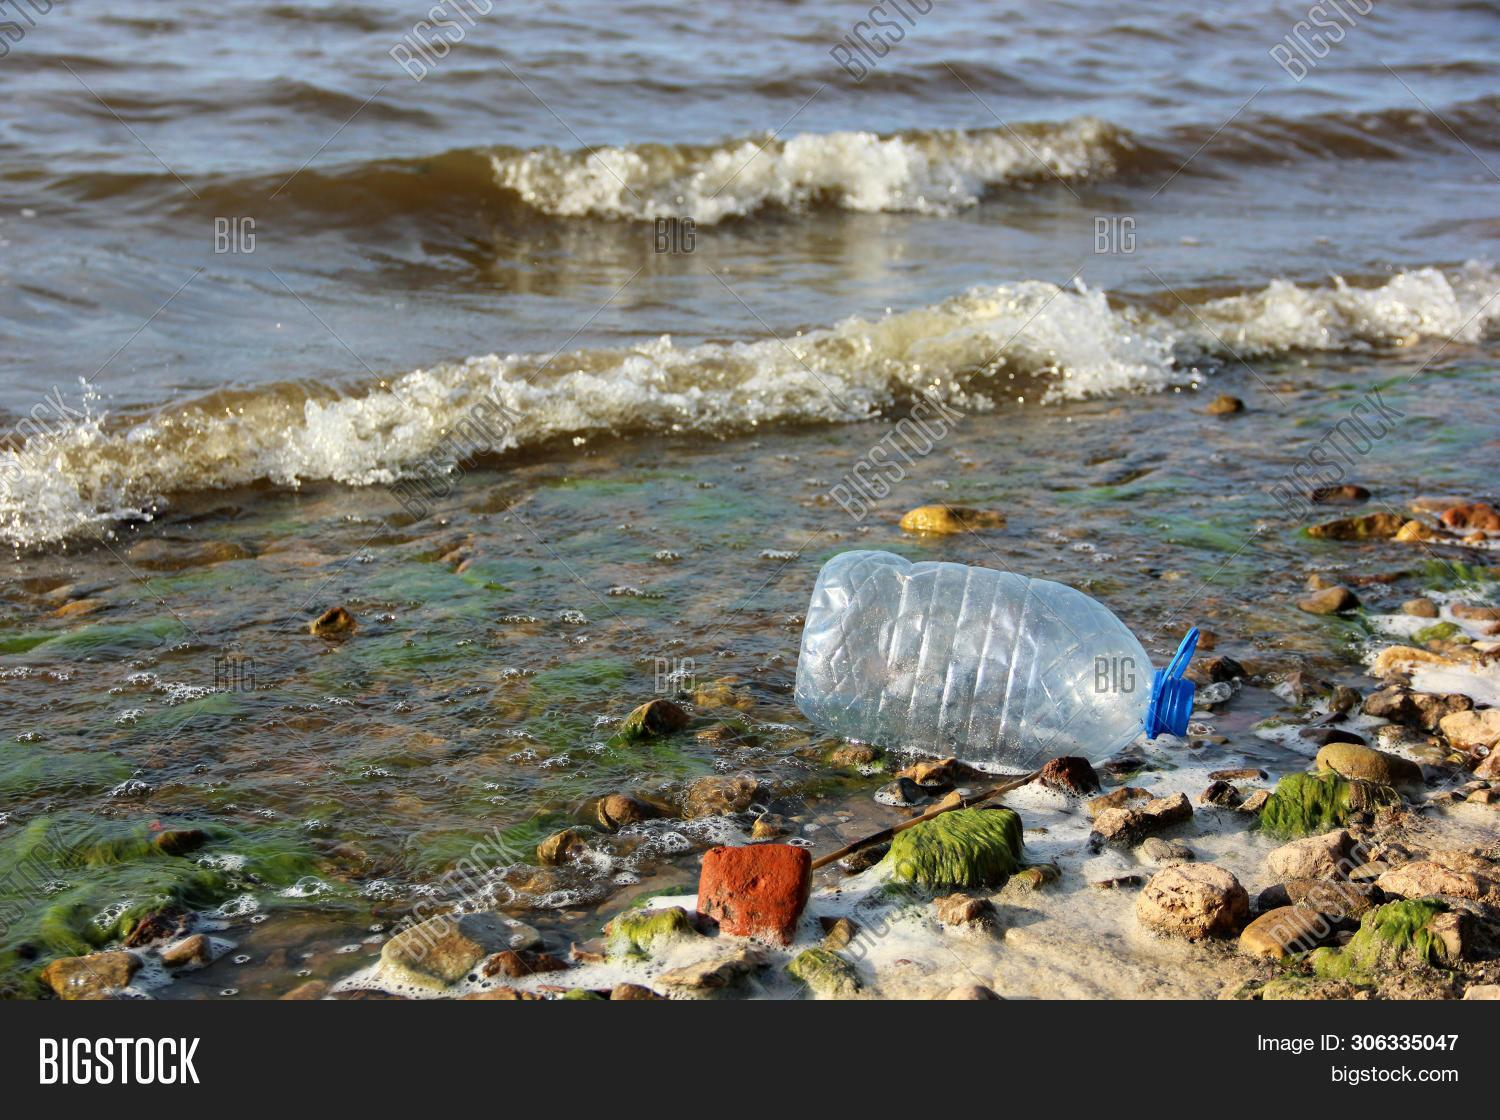bottle: (761, 516, 1231, 820)
